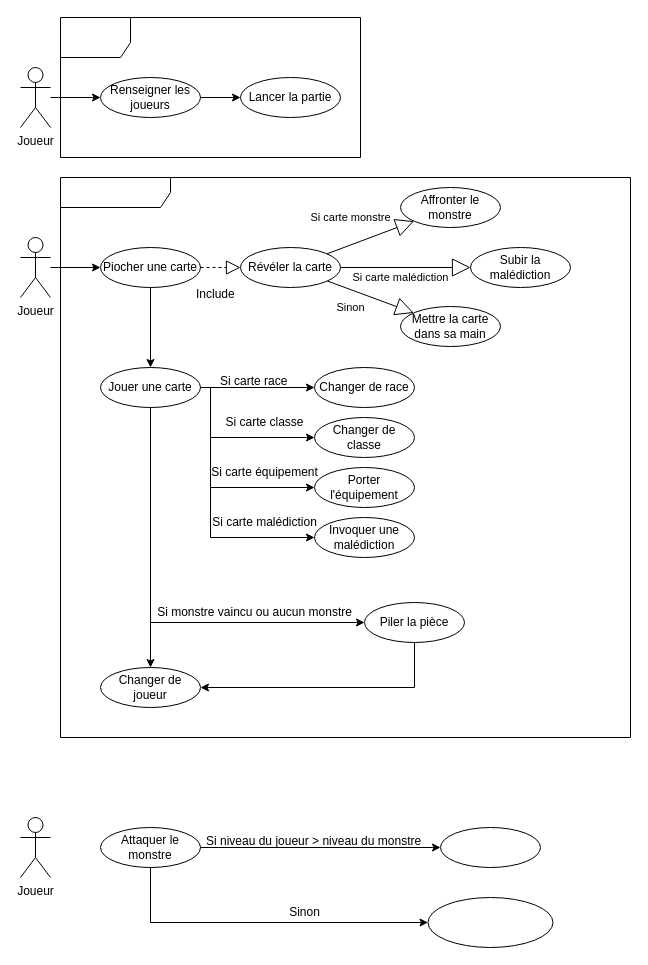
The diagram is 648 pixels wide and 965 high, and some of its shapes have lost their labels. Each missing label, with the box of its shape:
Gagner le butin: (440, 826, 540, 868)
Lancement de la partie: (60, 16, 360, 158)
Partie du jeu: (60, 176, 630, 738)
Subit un incident facheux: (427, 896, 553, 948)
